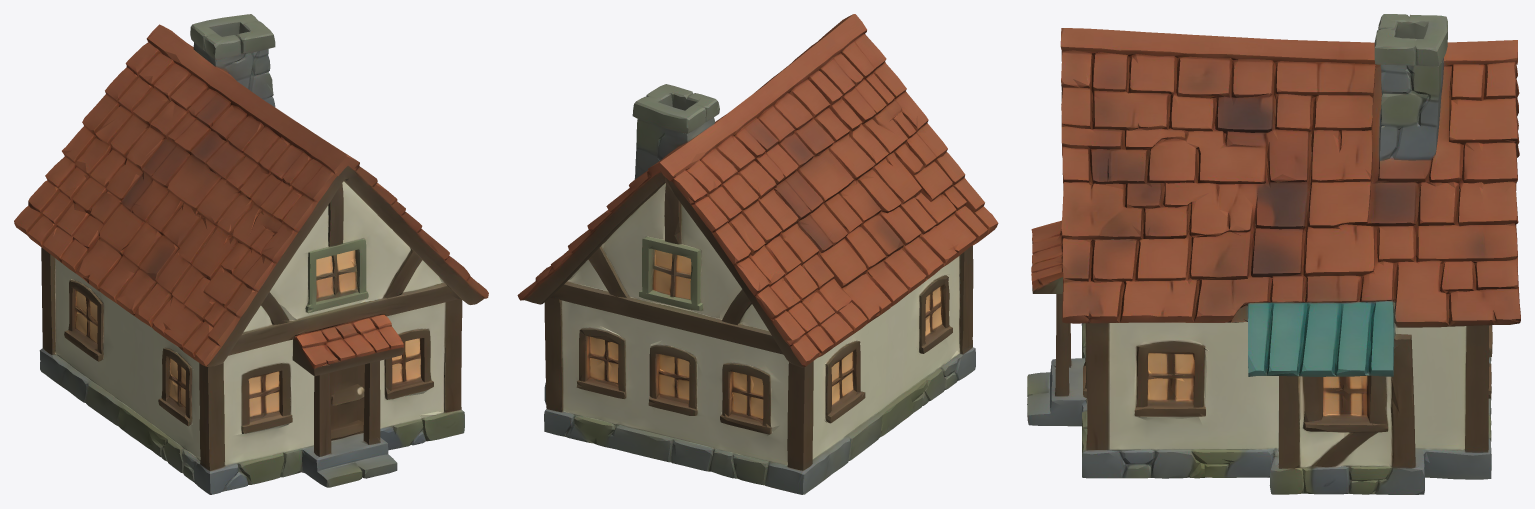
The model's file is base_basic_pbr.glb.
3 views of the same model, side by side, from view 1: azimuth 30°, elevation 25°; view 2: azimuth 150°, elevation 25°; view 3: azimuth 270°, elevation 25° (orthographic). The views are drawn at different scales.
Visible parts, largest first — view 1: Mesh; view 2: Mesh; view 3: Mesh.
Part boxes in pixels (x1=…): Mesh: x1=14, y1=14, x2=488, y2=494; Mesh: x1=517, y1=14, x2=998, y2=494; Mesh: x1=1027, y1=14, x2=1520, y2=494.
Size of the model in its own units: 1.68 by 1.66 by 1.89.
1 material, 1 textured.
